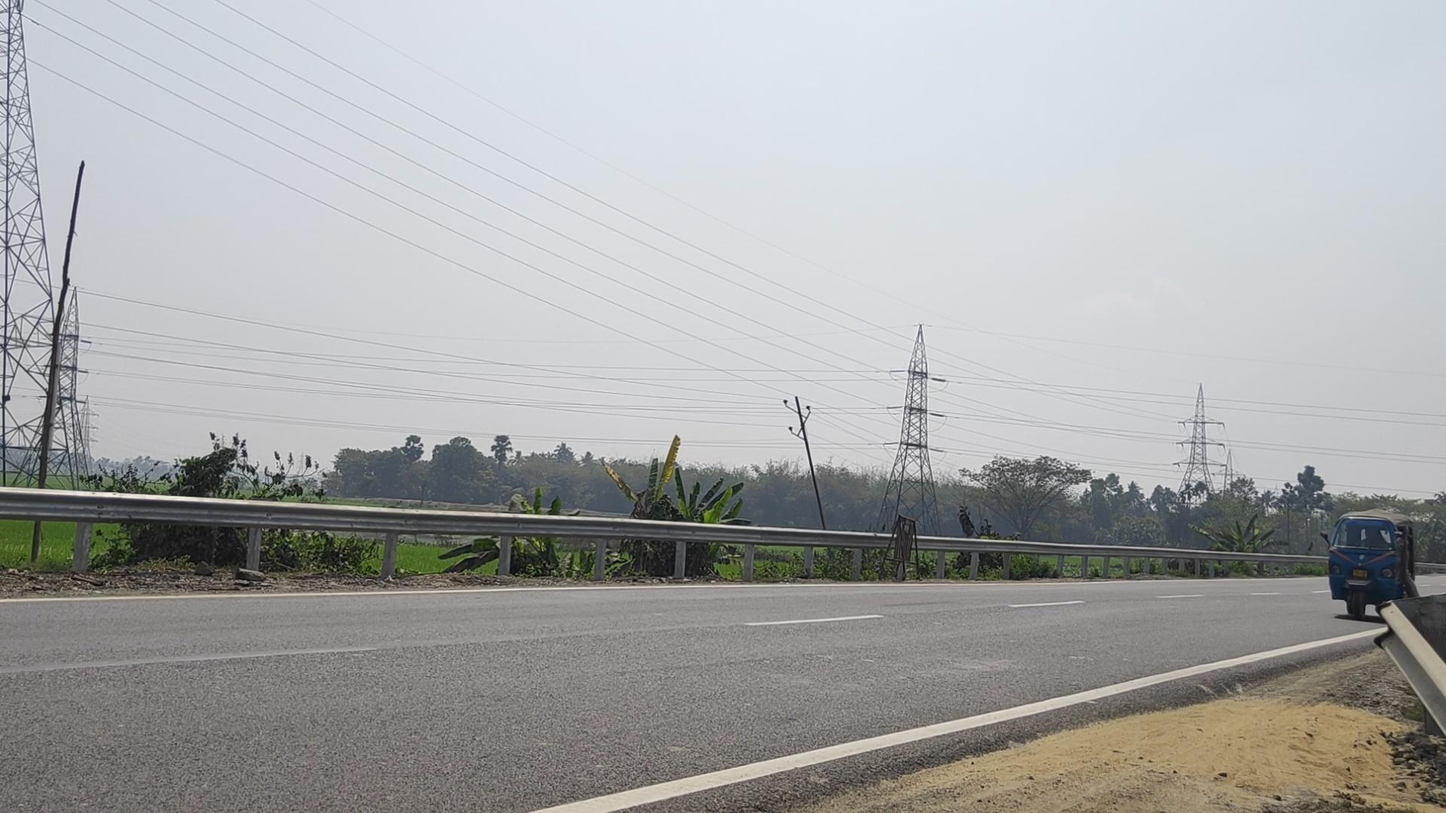Auto: (1319, 510, 1417, 621)
